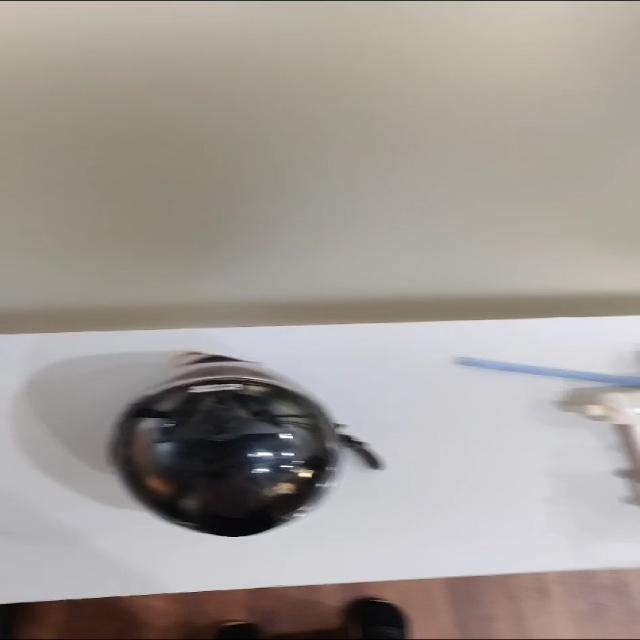helmet: (111, 353, 379, 535)
